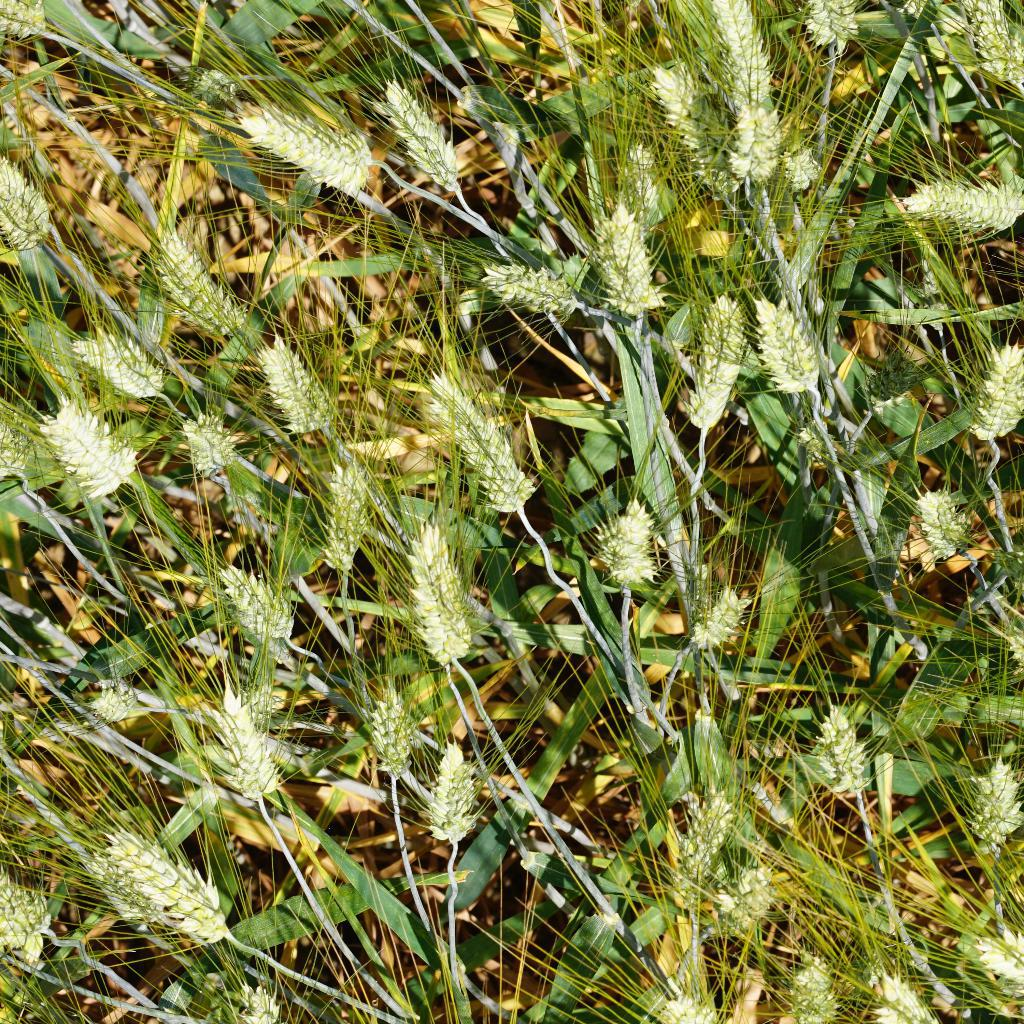0-0: (413, 349, 538, 522), (100, 819, 237, 950), (645, 52, 749, 215), (135, 209, 257, 347), (229, 106, 382, 196), (389, 509, 476, 666), (29, 396, 144, 505), (370, 69, 462, 198), (672, 287, 749, 441), (582, 199, 669, 326), (204, 673, 283, 807), (54, 322, 172, 404), (742, 282, 823, 400), (247, 332, 337, 438), (707, 0, 784, 112), (74, 840, 173, 926), (898, 170, 1024, 237), (582, 489, 663, 592), (207, 556, 298, 646), (315, 452, 376, 574), (947, 0, 1024, 93), (864, 959, 974, 1024), (467, 253, 582, 315), (0, 143, 59, 263), (958, 915, 1024, 1021), (806, 695, 871, 802), (672, 785, 739, 886), (965, 334, 1024, 448), (425, 737, 484, 849), (701, 860, 783, 940), (602, 132, 658, 248), (969, 745, 1024, 855), (0, 862, 64, 951), (728, 100, 787, 194), (685, 582, 757, 658), (369, 677, 417, 790), (906, 484, 974, 563), (197, 676, 300, 726), (862, 337, 923, 421), (171, 408, 239, 481), (783, 951, 842, 1024), (791, 0, 861, 55), (835, 922, 886, 996), (78, 676, 146, 725), (215, 980, 289, 1024), (178, 66, 249, 110), (792, 408, 841, 470), (0, 0, 66, 46), (648, 991, 727, 1024), (782, 142, 823, 202)
